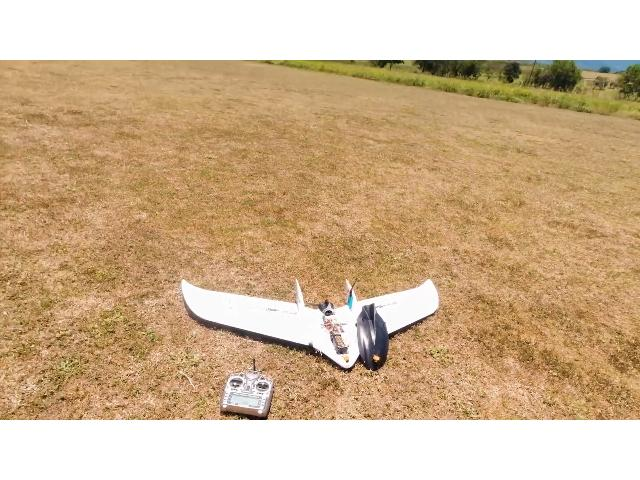Anti-Drone: (165, 265, 463, 374)
